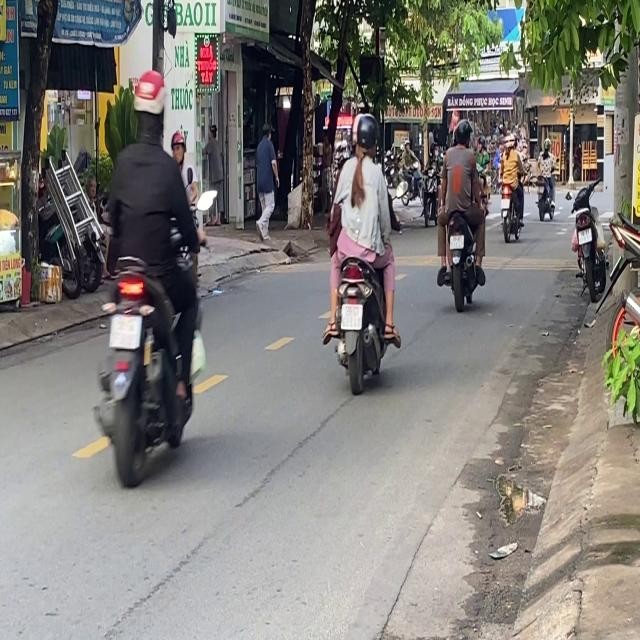helmet: (132, 67, 168, 140), (352, 112, 377, 159), (453, 118, 471, 146)
licenseplate: (93, 66, 205, 482), (321, 108, 402, 392), (433, 116, 488, 308)
nohelmet: (110, 314, 140, 347), (341, 303, 361, 328), (449, 234, 464, 248)
